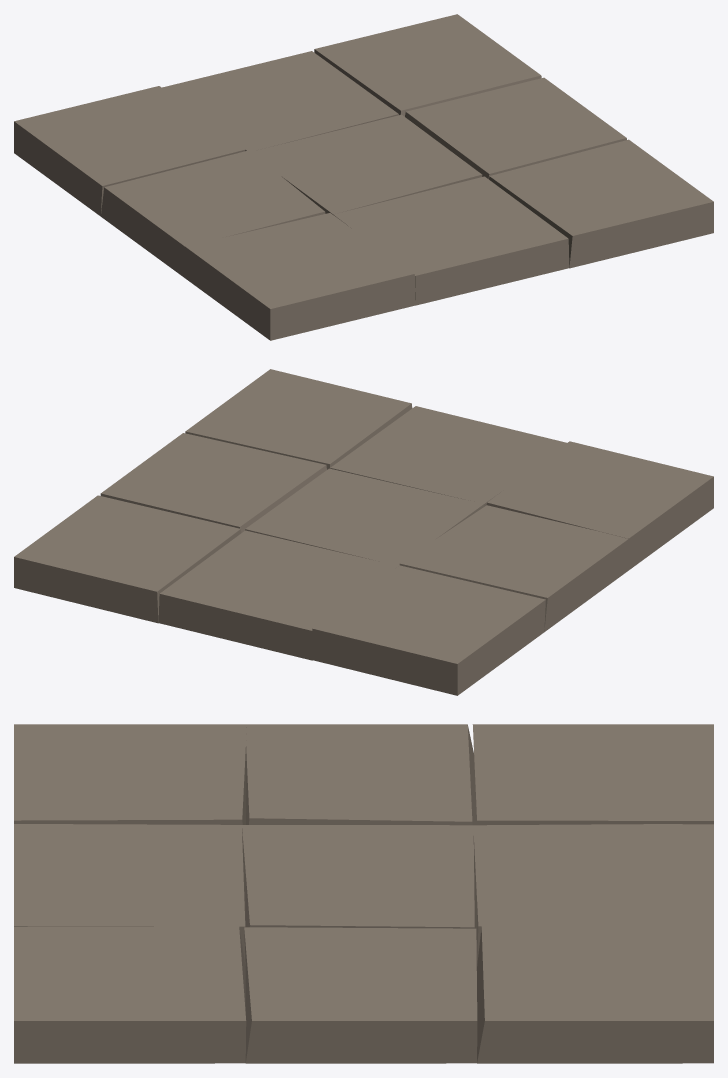
The model's file is steampunk_road_2.fbx.
3 renders of one model, top to bottom at view 1: azimuth 30°, elevation 25°; view 2: azimuth 150°, elevation 25°; view 3: azimuth 270°, elevation 25°, orthographic. The views are drawn at different scales.
Visible parts, largest first — view 1: Cube.016; view 2: Cube.016; view 3: Cube.016.
Part boxes in pixels (x1,y1,x2,y2): Cube.016: (14, 14, 713, 340); Cube.016: (14, 369, 713, 695); Cube.016: (14, 724, 713, 1063).
Size of the model in its own units: 3 by 0.2099 by 3.
